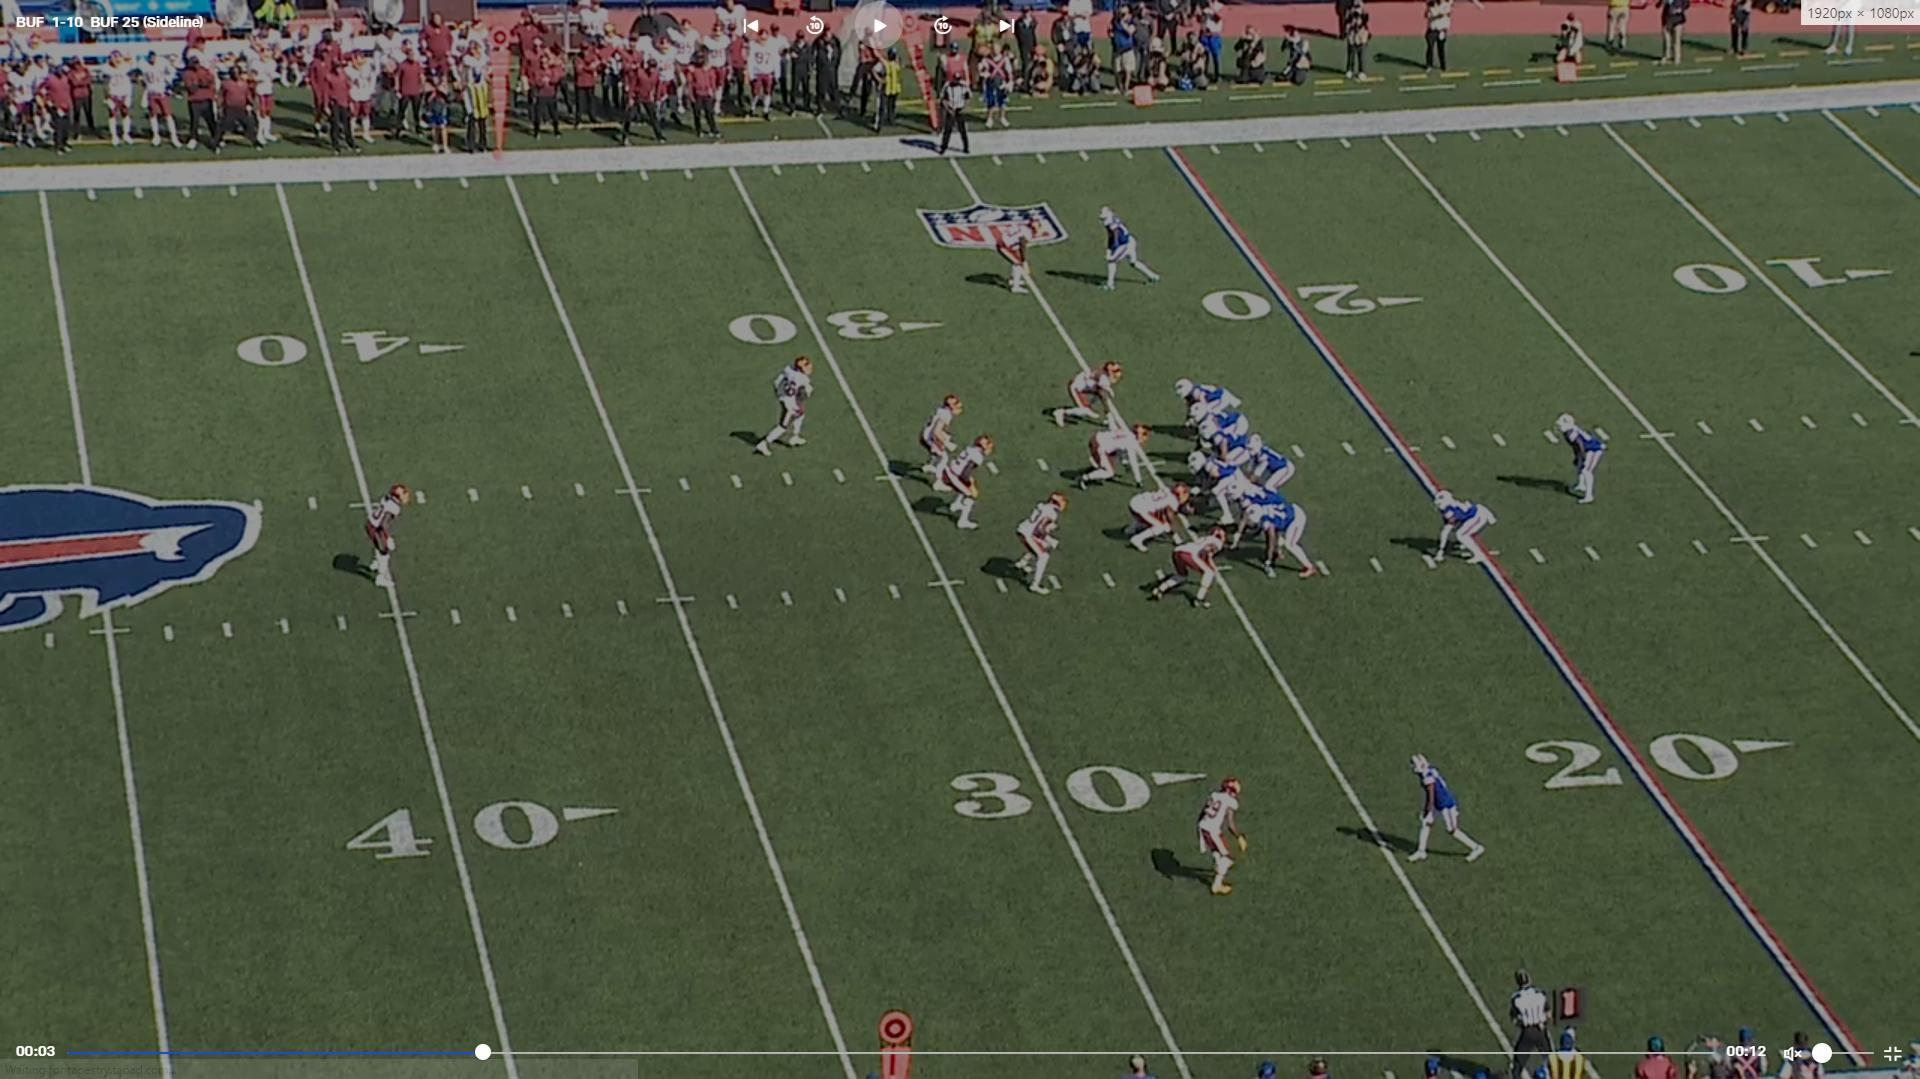player: (1411, 749, 1491, 868), (1193, 775, 1248, 900), (1148, 527, 1229, 611), (1095, 200, 1167, 294), (762, 351, 820, 461), (1248, 502, 1325, 581), (364, 483, 414, 597), (1552, 414, 1610, 509), (1429, 491, 1496, 573), (1021, 488, 1073, 593), (1076, 423, 1149, 494), (1055, 360, 1123, 436), (945, 434, 996, 534), (1129, 484, 1196, 554), (1180, 448, 1241, 524), (923, 393, 966, 493), (1226, 476, 1285, 547), (1002, 208, 1043, 304), (1199, 422, 1260, 476), (1246, 433, 1296, 494), (1172, 372, 1237, 417), (1187, 401, 1252, 440)
ref: (1499, 965, 1559, 1056), (937, 73, 976, 158)
